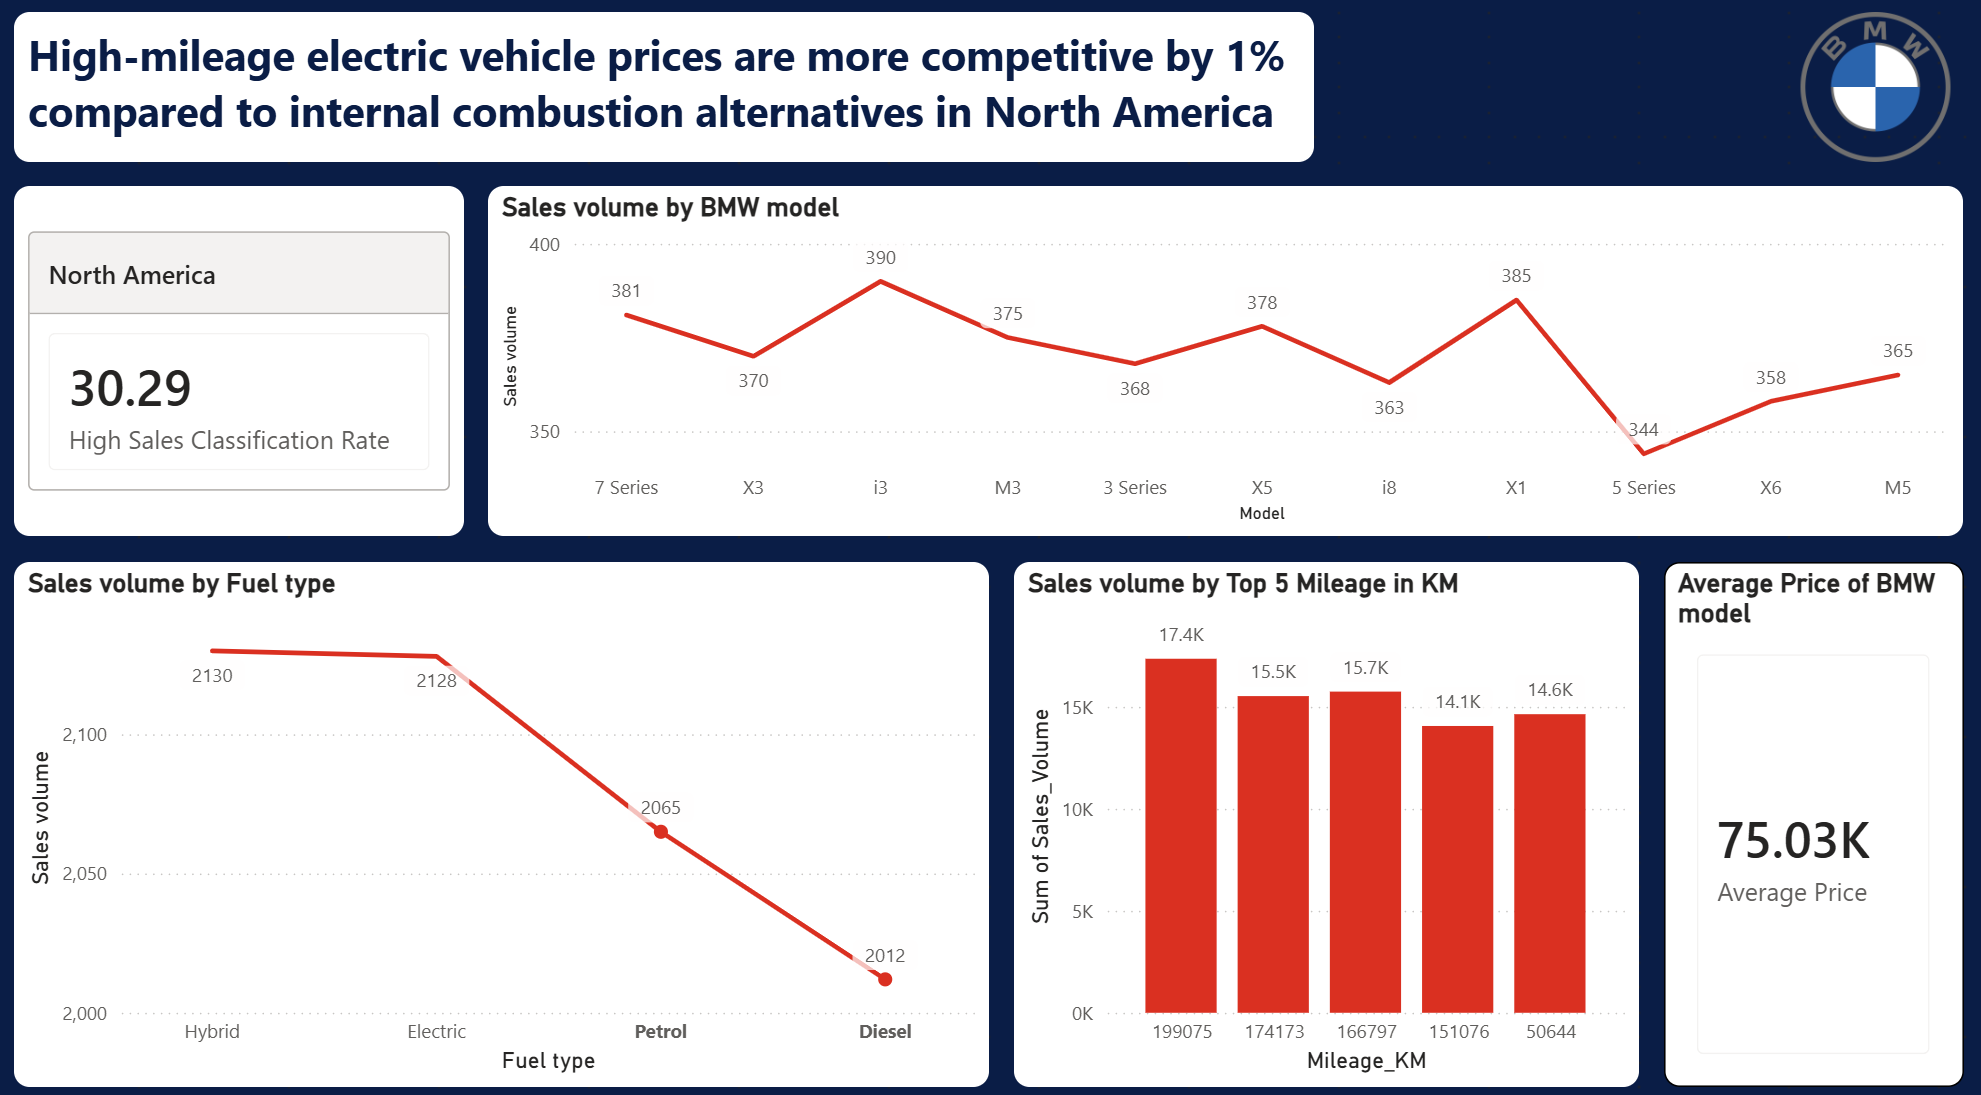

The page's visual inventory and layout, read from the dashboard file:
{"tool":"powerbi","page":{"name":"Page 1","canvas":[1280,720],"ordinal":0},"visuals":[{"type":"textbox","box":[16,16,832,96],"z":0},{"type":"cardVisual","fields":{"Rows":["BMW sales data (2010-2024).Region"],"Data":["BMW sales data (2010-2024).High Sales Classification Rate"]},"box":[16,128,288,224],"z":2000},{"type":"lineStackedColumnComboChart","title":"Sales volume by BMW model","fields":{"Category":["BMW sales data (2010-2024).Model"],"Y2":["CountNonNull(BMW sales data (2010-2024).Sales_Volume)"]},"box":[320,128,944,224],"z":3000},{"type":"lineStackedColumnComboChart","title":"Sales volume by Fuel type","fields":{"Category":["BMW sales data (2010-2024).Fuel_Type"],"Y2":["CountNonNull(BMW sales data (2010-2024).Sales_Volume)"]},"box":[16,368,624,336],"z":4000},{"type":"lineStackedColumnComboChart","title":"Sales volume by Top 5 Mileage in KM","fields":{"Category":["BMW sales data (2010-2024).Mileage_KM"],"Y":["Sum(BMW sales data (2010-2024).Sales_Volume)"]},"box":[656,368,400,336],"z":5000},{"type":"image","box":[1152,16,112,96],"z":6000},{"type":"cardVisual","title":"Average Price of BMW model","fields":{"Data":["BMW sales data (2010-2024).Average Price"]},"box":[1072,368,192,336],"z":7000}]}

Visuals, with their boxes in screenshot pixels (x1, y1, x2, y2), scaled from the page's 1280x720 canvas onto the 1981x1095 screenshot:
textbox: bbox=(25, 24, 1312, 170)
cardVisual - BMW sales data (2010-2024).Region x BMW sales data (2010-2024).High Sales Classification Rate: bbox=(25, 195, 470, 535)
"Sales volume by BMW model" lineStackedColumnComboChart: bbox=(495, 195, 1956, 535)
"Sales volume by Fuel type" lineStackedColumnComboChart: bbox=(25, 560, 990, 1071)
"Sales volume by Top 5 Mileage in KM" lineStackedColumnComboChart: bbox=(1015, 560, 1634, 1071)
image: bbox=(1783, 24, 1956, 170)
"Average Price of BMW model" cardVisual: bbox=(1659, 560, 1956, 1071)
